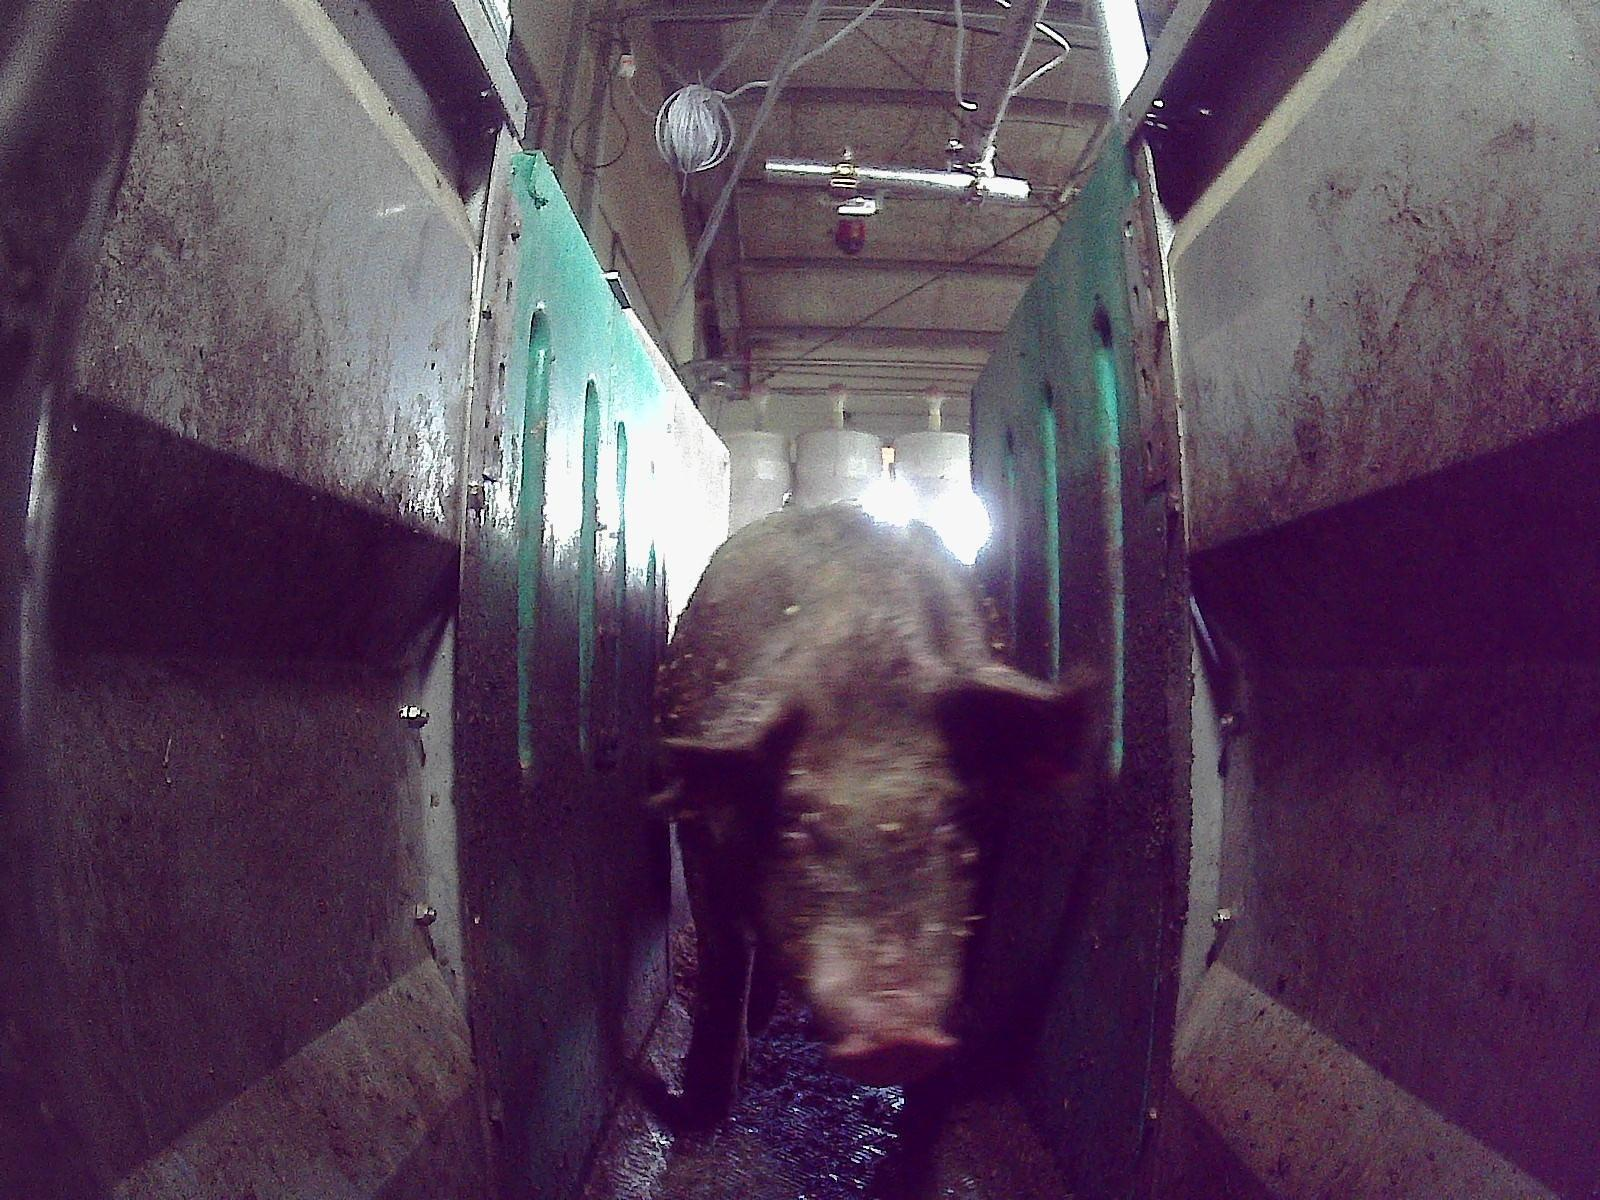Face: (729, 666, 989, 1085)
